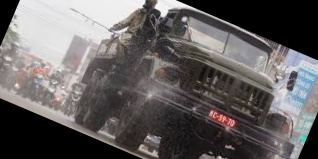plate: (207, 107, 236, 129)
